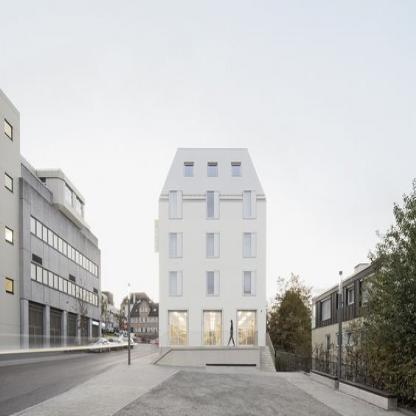Building Outline: (154, 148, 277, 372), (154, 148, 276, 373)
Floor Slab: (159, 223, 266, 228), (159, 262, 266, 267), (159, 300, 266, 304)
Glass Wall: (238, 311, 256, 345), (169, 311, 187, 345), (204, 311, 221, 345)
Roof: (161, 148, 266, 196)
Window: (170, 192, 182, 217), (208, 192, 220, 217), (244, 191, 255, 216), (171, 235, 182, 257), (208, 272, 219, 294), (208, 235, 219, 257), (244, 234, 255, 256), (171, 272, 182, 294), (245, 272, 255, 293), (232, 166, 240, 176), (185, 166, 192, 176), (209, 166, 216, 176)
